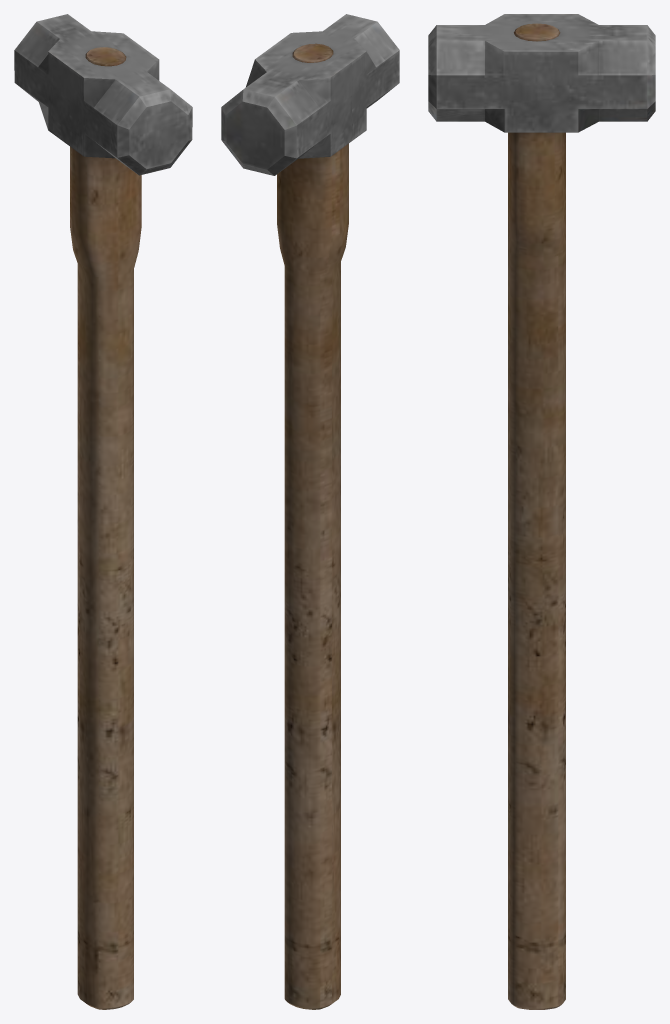
File: mp_sledgehammer.glb
3 views of the same model, side by side, from view 1: azimuth 30°, elevation 25°; view 2: azimuth 150°, elevation 25°; view 3: azimuth 270°, elevation 25° (orthographic). The views are drawn at different scales.
Parts seen in each view (by area): view 1: Sledgehammer; view 2: Sledgehammer; view 3: Sledgehammer.
Part boxes in pixels (x1,y1,x2,y2): Sledgehammer: (14,14,192,1009); Sledgehammer: (221,14,399,1009); Sledgehammer: (428,14,655,1009).
Size of the model in its own units: 0.0819 by 0.98 by 0.2083.
1 material, 1 textured.
